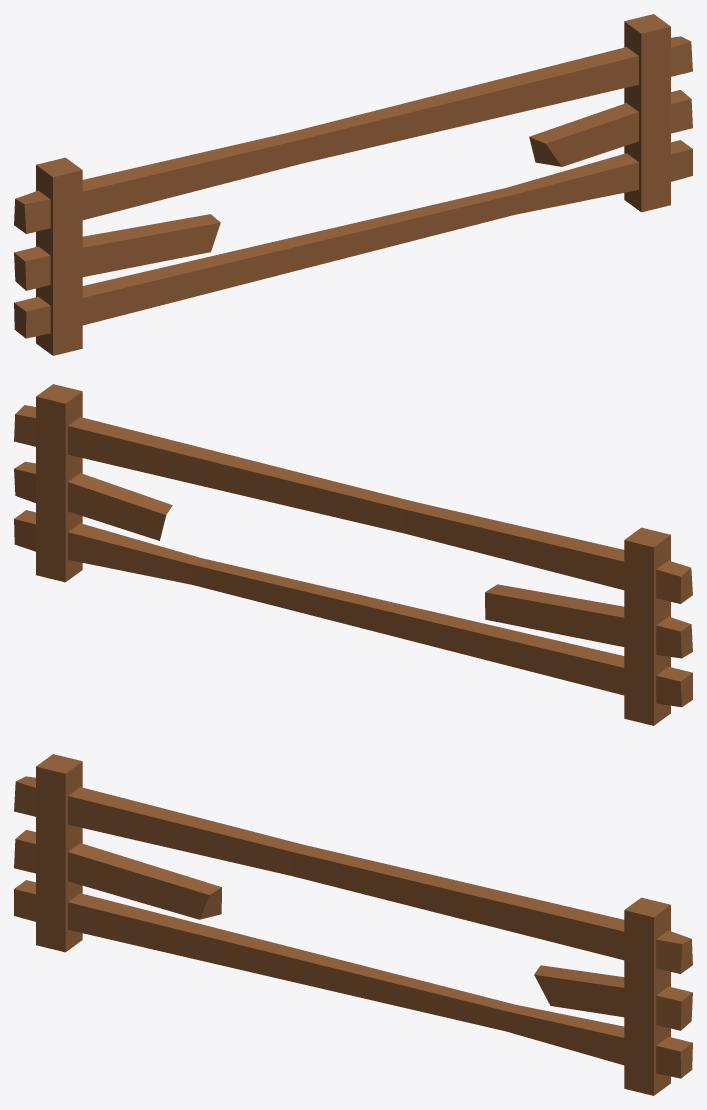
File: Fence_Crack.fbx
3 views of the same model, one above another, from view 1: azimuth 30°, elevation 25°; view 2: azimuth 150°, elevation 25°; view 3: azimuth 330°, elevation 25° (orthographic).
Visible parts, largest first — view 1: Fence_Crack; view 2: Fence_Crack; view 3: Fence_Crack.
Boxes of the visible parts, box(x1,y1,x2,y2) form: Fence_Crack: box(14, 14, 692, 355); Fence_Crack: box(14, 384, 692, 725); Fence_Crack: box(14, 754, 692, 1095).
Bounding box in the file's own units: 340 × 86.85 × 15.14.
